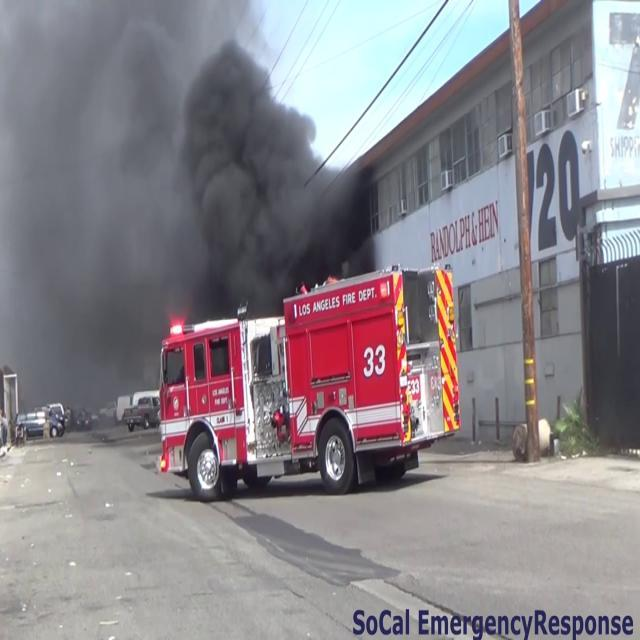Smoke: (0, 1, 366, 358)
